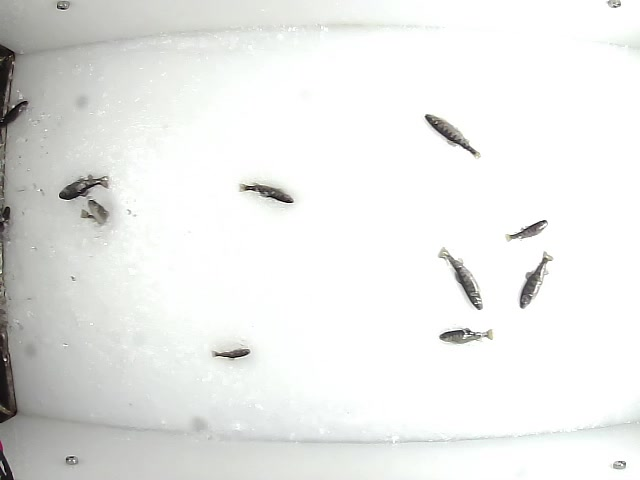fish: (436, 245, 484, 314), (422, 112, 481, 158), (515, 249, 551, 311), (236, 177, 299, 206), (56, 171, 111, 201), (436, 324, 496, 347), (501, 218, 550, 244), (77, 195, 110, 227), (210, 342, 252, 361)
